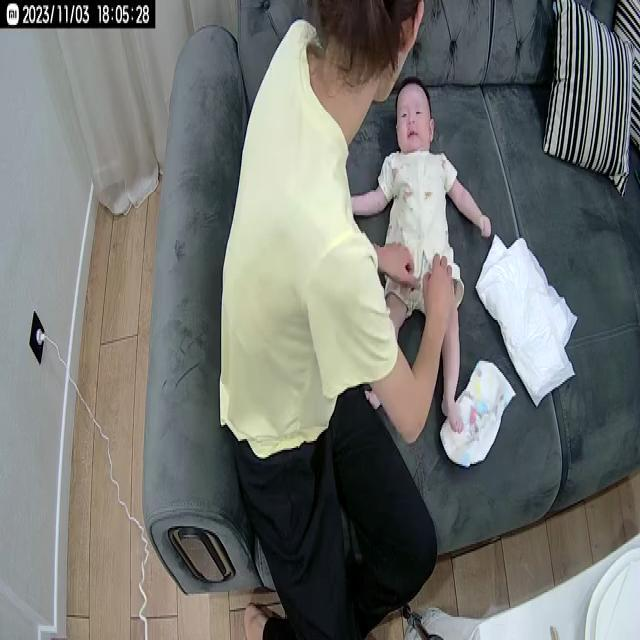baby: (338, 76, 493, 433)
